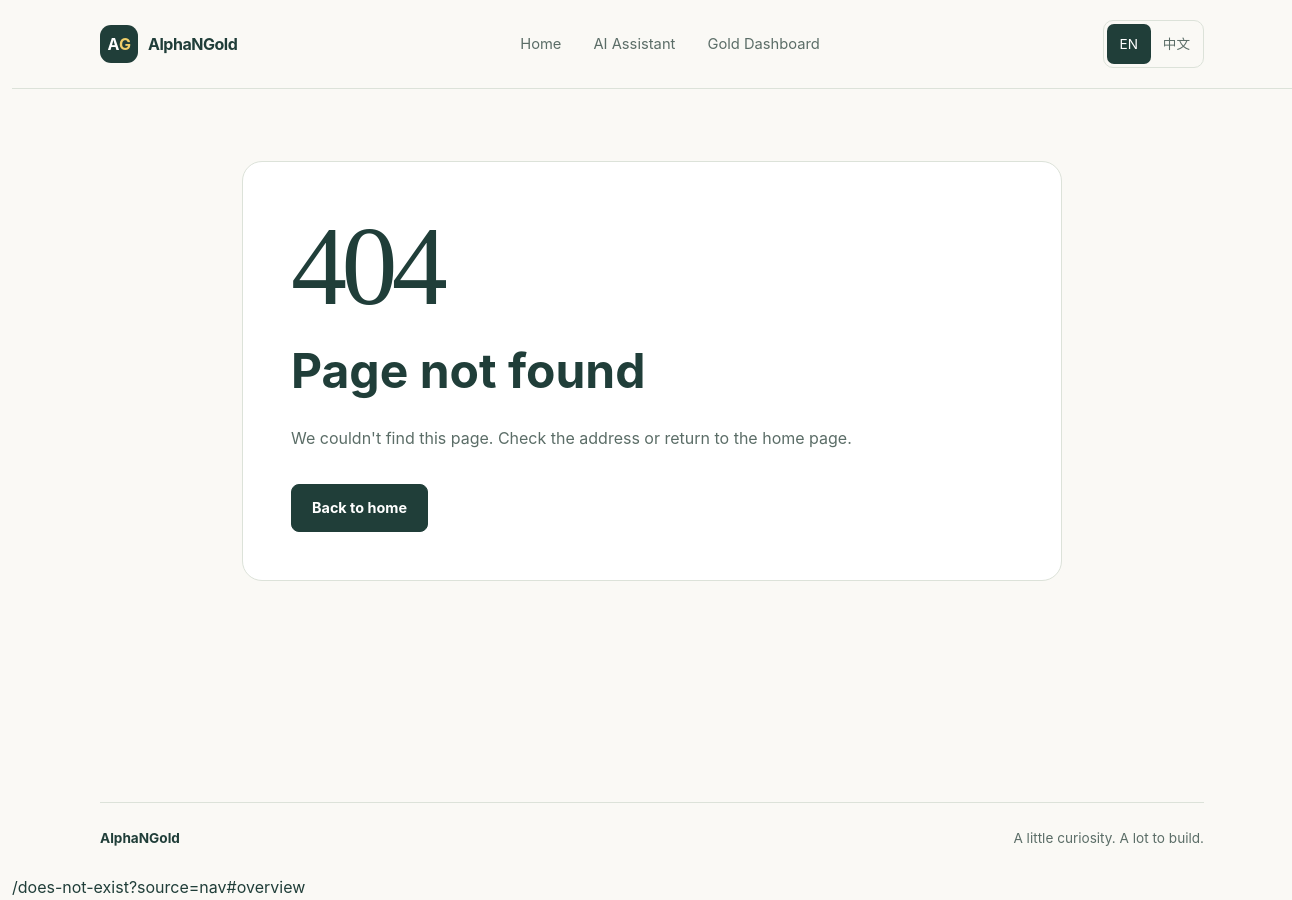
Test: App › translates /does-not-exist?source=nav#overview and keeps its route, query, and hash
expect the heading "Page not found" is shown: met, box [291, 341, 646, 400]
Click the button with aria-label "简体中文" at [1176, 44], box [1153, 24, 1200, 64]
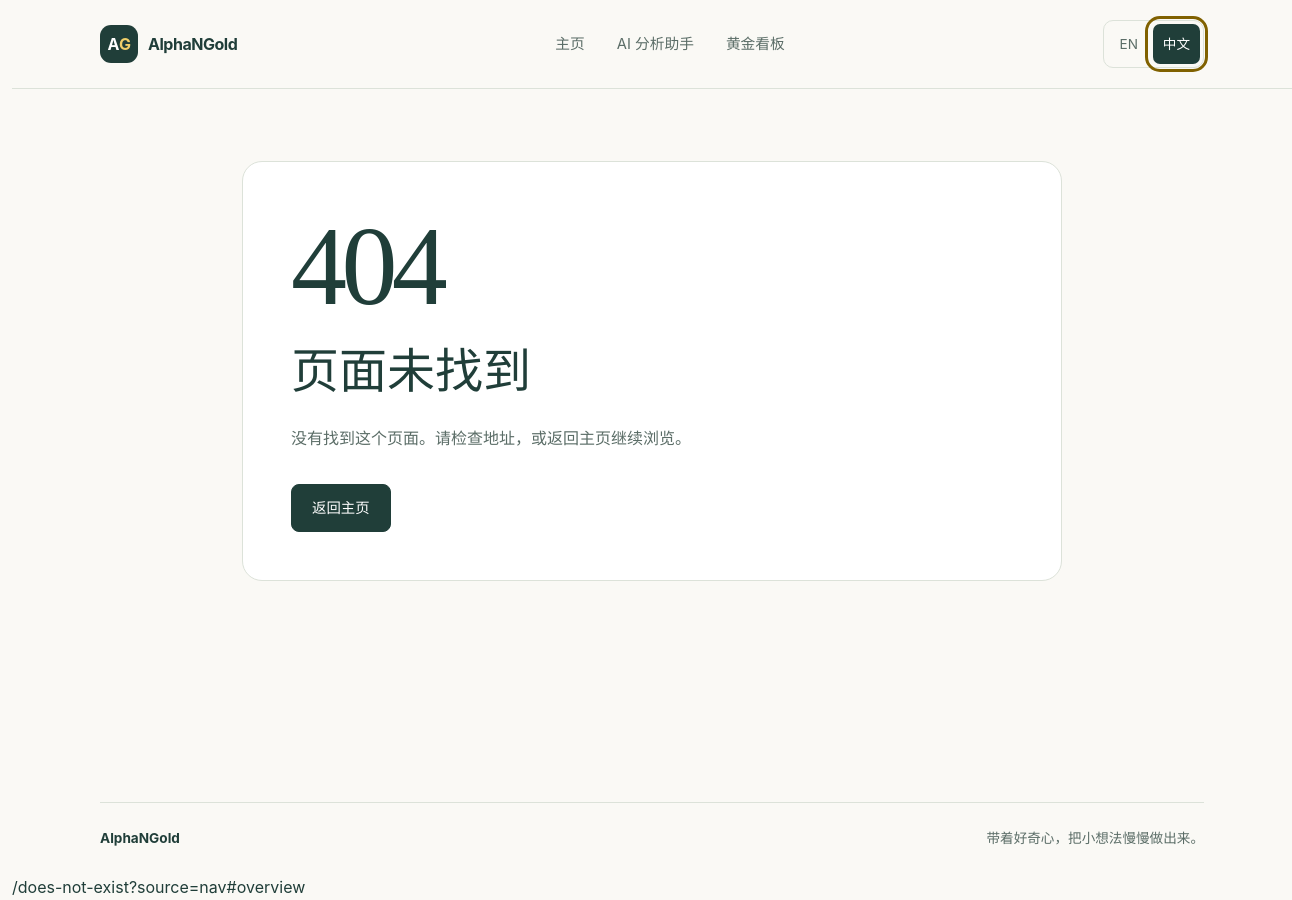
expect the text with test id "current-location" reads "/does-not-exist?source=nav#overview": met, box [12, 877, 305, 897]
expect the heading "页面未找到" is shown: met, box [291, 341, 531, 400]
